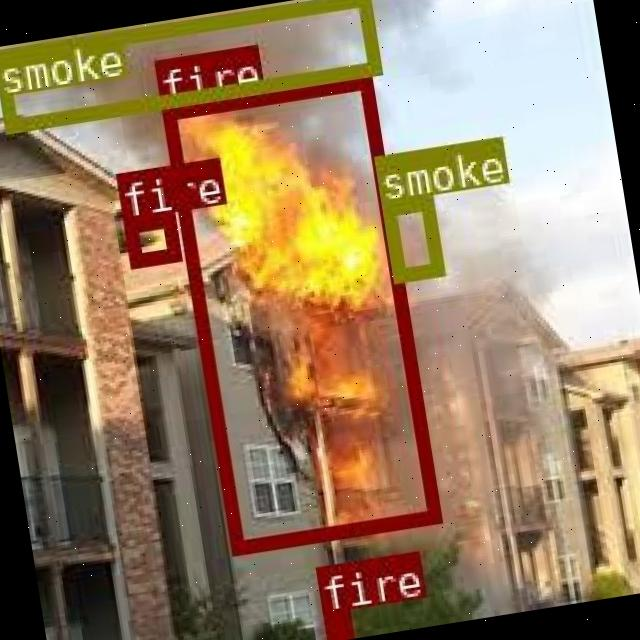fire: (160, 73, 438, 552), (122, 212, 179, 264), (321, 608, 348, 637)
smoke: (0, 0, 378, 130), (380, 193, 441, 280)
